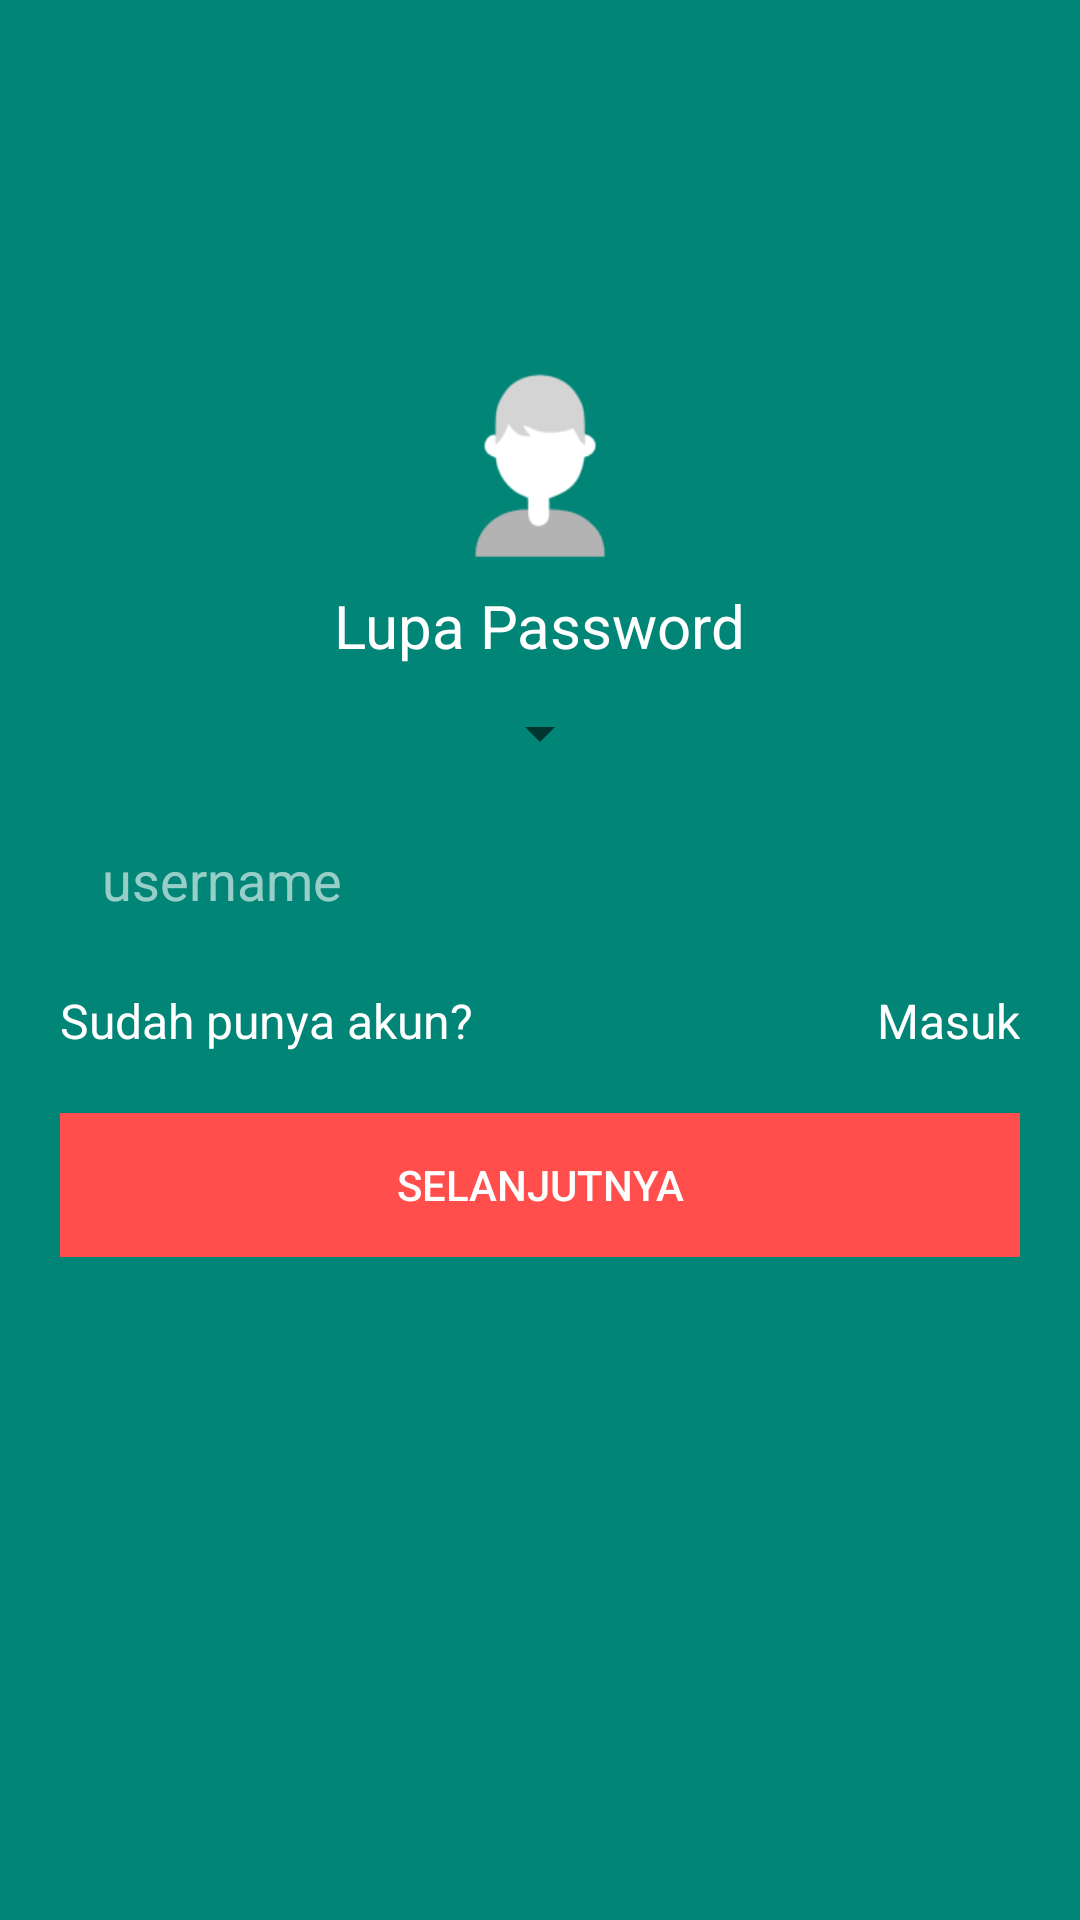

Icons on this 1080x1920 Android screen, each with the point to tap as point (x, y):
admin: point (540, 465)
